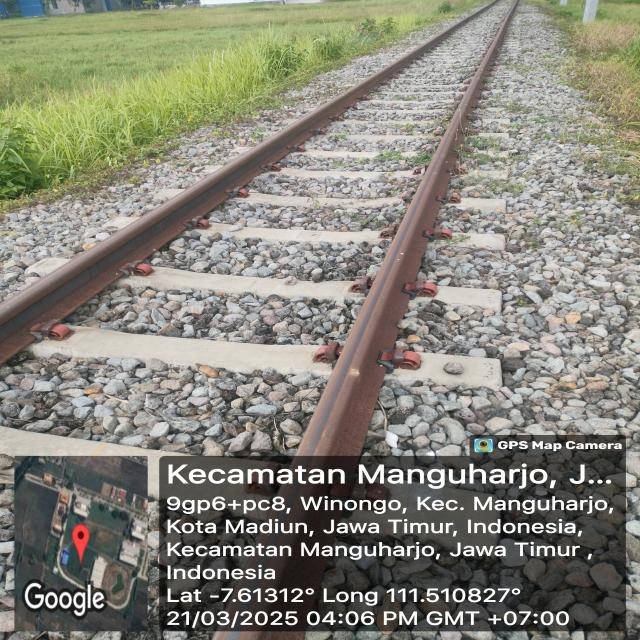rail-detection: (0, 16, 471, 364), (292, 0, 518, 475)
